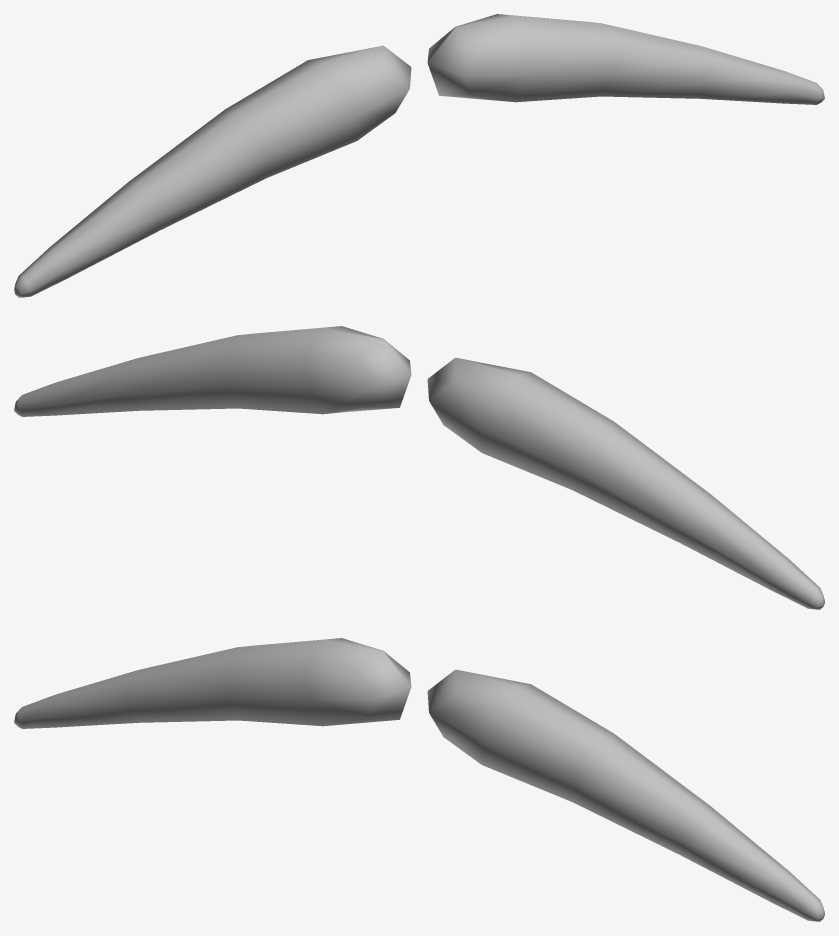
File: Mustache_White_002.glb
The picture shows the model from 3 angles, top to bottom: view 1: azimuth 30°, elevation 25°; view 2: azimuth 150°, elevation 25°; view 3: azimuth 330°, elevation 25°; orthographic projection.
Parts seen in each view (by area): view 1: Mustache_White_002; view 2: Mustache_White_002; view 3: Mustache_White_002.
Boxes of the visible parts, left/top/right/bottom form: Mustache_White_002: left=14, top=14, right=824, bottom=297; Mustache_White_002: left=14, top=326, right=824, bottom=609; Mustache_White_002: left=14, top=638, right=824, bottom=921.
Bounding box in the file's own units: 0.2433 × 0.047 × 0.0237.
Materials: 1 (1 with a texture image).
